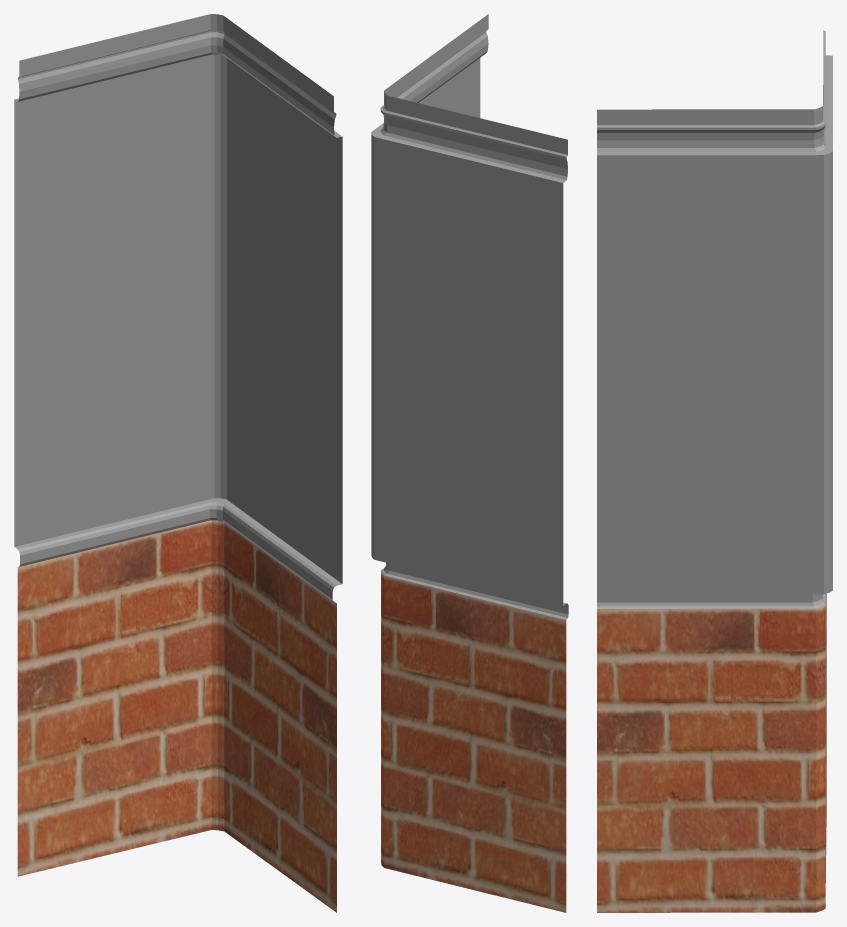
The model's file is SM_MurCoinDInterieur.fbx.
3 views of the same model, side by side, from view 1: azimuth 30°, elevation 25°; view 2: azimuth 150°, elevation 25°; view 3: azimuth 270°, elevation 25° (orthographic). The views are drawn at different scales.
Parts seen in each view (by area): view 1: SM_MurCoinDInterieur; view 2: SM_MurCoinDInterieur; view 3: SM_MurCoinDInterieur.
Part boxes in pixels (x1=…): SM_MurCoinDInterieur: x1=14, y1=14, x2=342, y2=912; SM_MurCoinDInterieur: x1=371, y1=14, x2=568, y2=912; SM_MurCoinDInterieur: x1=597, y1=30, x2=832, y2=912.
Bounding box in the file's own units: 70.31 × 264 × 70.38.
4 materials, 1 textured.
